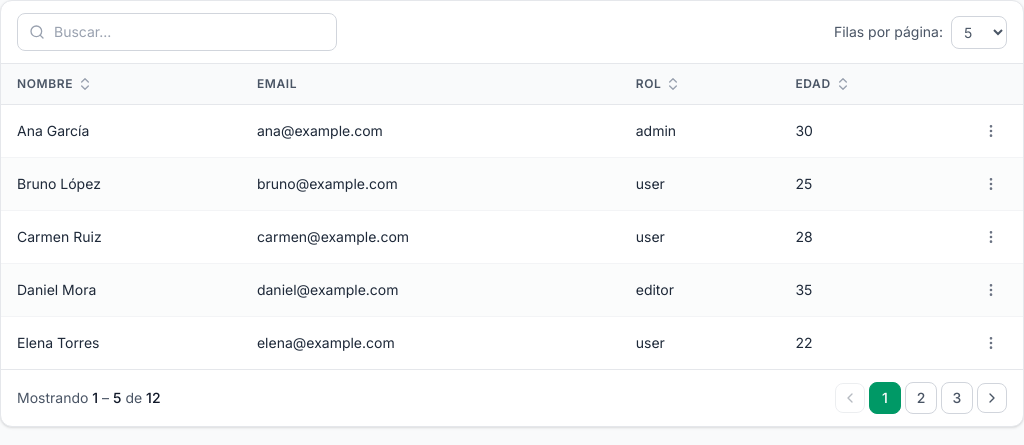
Test: DataTable — Menú de acciones por fila › cierra el menú después de ejecutar una acción
Click the button named "abrir menú de acciones" in the row of "Ana García" at {"x": 991, "y": 131}, box [977,117,1005,145]
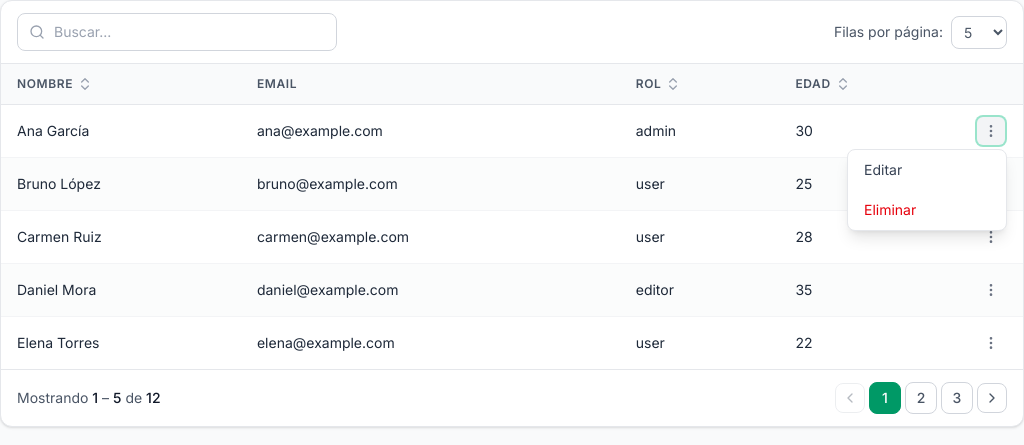
Click the menu item "Editar" at {"x": 927, "y": 170}, box [848,150,1006,190]
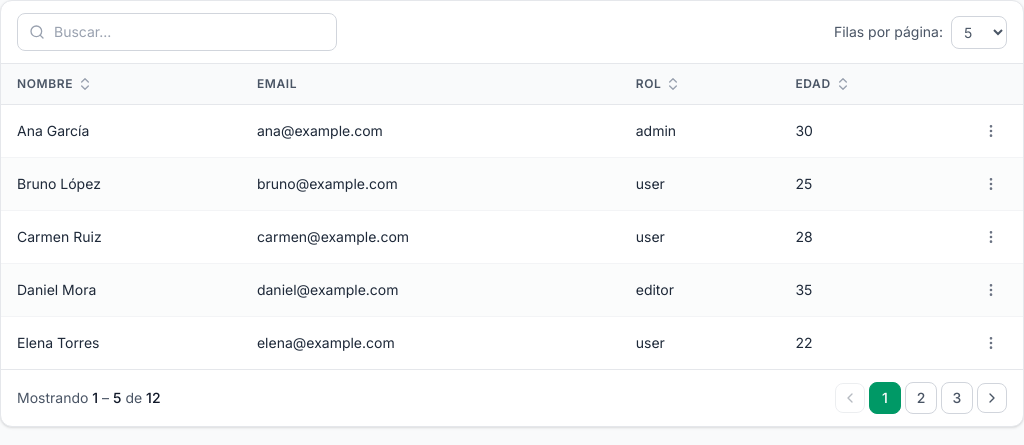
Result: the menu item "Editar" is gone
